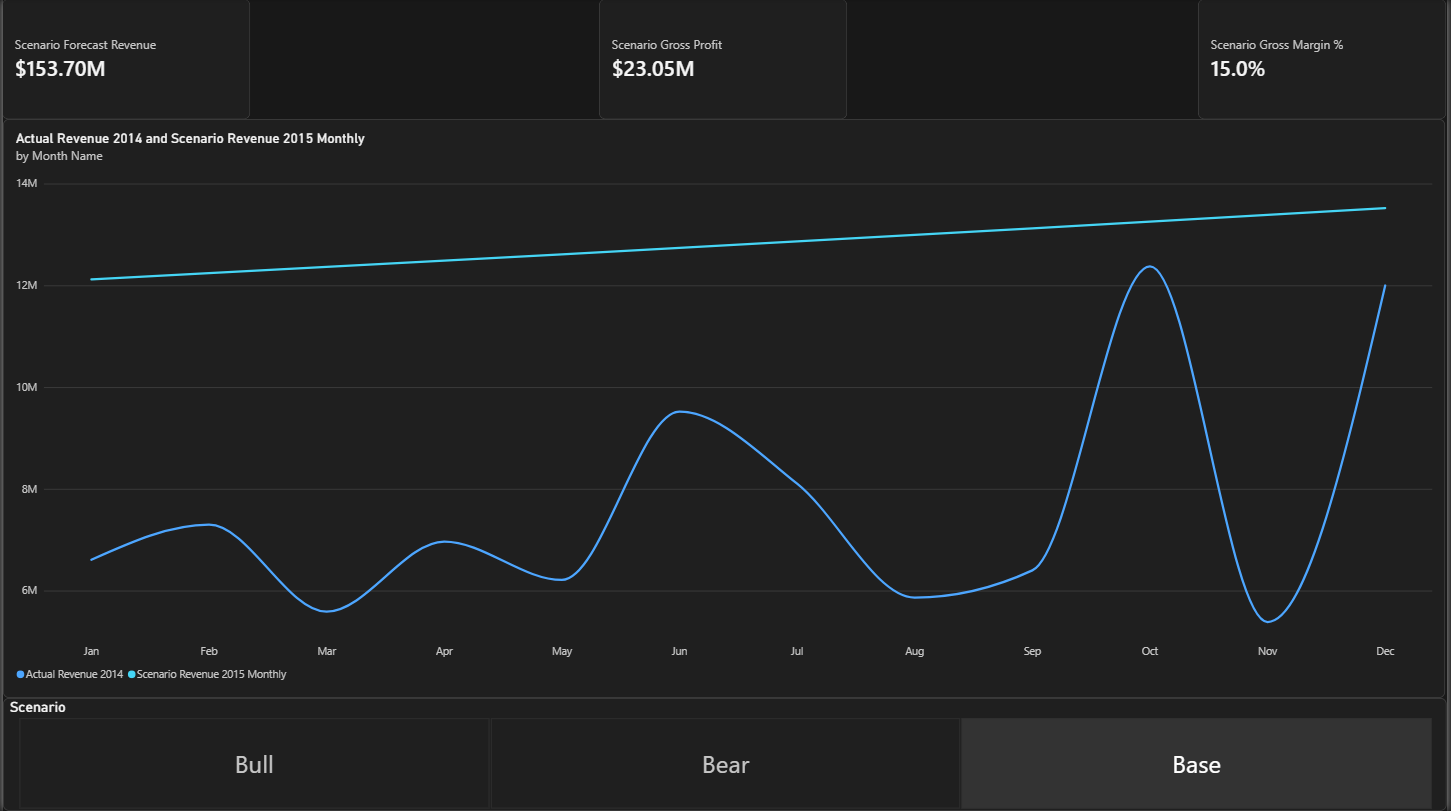

The page's visual inventory and layout, read from the dashboard file:
{"tool":"powerbi","page":{"name":"Forecast & Scenarios","canvas":[1920,1080],"ordinal":2},"visuals":[{"type":"cardVisual","title":"Scenario Revenue Forecast","fields":{"Data":["Scenarios.Scenario Forecast Revenue"]},"box":[-1.4,0,330,160],"z":0},{"type":"cardVisual","fields":{"Data":["Forecast.Scenario Gross Profit"]},"box":[792.9,0,330,160],"z":1000},{"type":"cardVisual","fields":{"Data":["Forecast.Scenario Gross Margin %"]},"box":[1589.2,0,330,160],"z":2000},{"type":"lineChart","fields":{"Category":["Calendar.Month Name"],"Y":["Forecast.Actual Revenue 2014","Forecast.Scenario Revenue 2015 Monthly"]},"box":[0,159.7,1918,770],"z":3000},{"type":"slicer","fields":{"Values":["Scenarios.Scenario"]},"box":[0,929.7,1920,149.6],"z":4000}]}

Visuals, with their boxes in screenshot pixels (x1, y1, x2, y2), scaled from the page's 1920x1080 canvas onto the 1451x811 screenshot:
"Scenario Revenue Forecast" cardVisual: detection(0, 0, 248, 120)
cardVisual - Forecast.Scenario Gross Profit: detection(599, 0, 849, 120)
cardVisual - Forecast.Scenario Gross Margin %: detection(1201, 0, 1450, 120)
lineChart - Calendar.Month Name x Forecast.Actual Revenue 2014: detection(0, 120, 1449, 698)
slicer - Scenarios.Scenario: detection(0, 698, 1450, 810)
